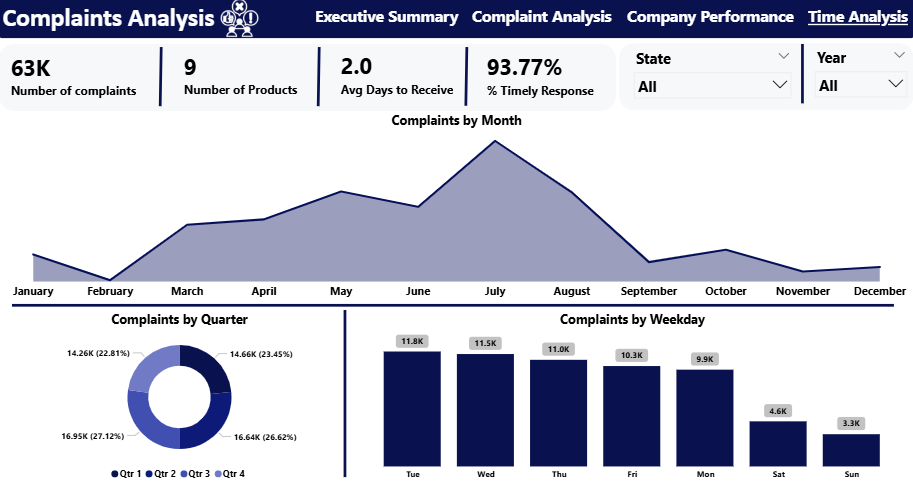

Layout of this report page (visuals, bound fields, positions):
{"tool":"powerbi","page":{"name":"Time Analysis","canvas":[1336,730],"ordinal":4},"visuals":[{"type":"shape","box":[905.4,75.1,430.3,98.2],"z":0},{"type":"shape","box":[0,8.9,1335.9,59.1],"z":1000,"group":"g1"},{"type":"shape","box":[0,75.9,900.8,97.8],"z":1000},{"type":"cardVisual","title":"j","fields":{"Data":["Measuress.Number of complaints"]},"box":[0,75.9,240.9,89.1],"z":2000},{"type":"shape","box":[197.8,80.9,78,86.6],"z":3000},{"type":"cardVisual","fields":{"Data":["Measuress.Number of Products"]},"box":[241.3,70.9,245.8,96.5],"z":4000},{"type":"cardVisual","fields":{"Data":["Measuress.Avg Days to Receive"]},"box":[470.5,67.9,292.5,104.1],"z":5000},{"type":"cardVisual","fields":{"Data":["Measuress.% Timely Response"]},"box":[683.1,68.6,217.1,104.1],"z":6000},{"type":"lineChart","title":"Complaints by Month","fields":{"Category":["Complaints Analysis.Received Date.Variation.Date Hierarchy.Year","Complaints Analysis.Received Date.Variation.Date Hierarchy.Month"],"Y":["CountNonNull(Complaints Analysis.Complaint ID)"]},"box":[0,173.9,1336,283],"z":7000},{"type":"textbox","box":[0,8.8,326.3,59.9],"z":8000,"group":"g1"},{"type":"donutChart","title":"Complaints by Quarter","fields":{"Y":["CountNonNull(Complaints Analysis.Complaint ID)"],"Category":["Complaints Analysis.Received Date.Variation.Date Hierarchy.Quarter"]},"box":[0,464.3,527.1,258.4],"z":8000},{"type":"shape","box":[19.4,449.2,1287.6,15.5],"z":9000},{"type":"shape","box":[427.4,80.9,78,86.6],"z":10000},{"type":"shape","box":[643.9,79.9,76.9,86],"z":11000},{"type":"slicer","fields":{"Values":["Complaints Analysis.Received Date.Variation.Date Hierarchy.Year"]},"box":[1181.2,76.1,154.5,86.6],"z":12000},{"type":"slicer","fields":{"Values":["Complaints Analysis.State name"]},"box":[916.9,77.5,249.8,83.8],"z":13000},{"type":"shape","box":[495.7,464.7,17.4,244],"z":14000},{"type":"shape","box":[1166.8,76.1,13,86.6],"z":15000},{"type":"clusteredColumnChart","title":"Complaints by Weekday","fields":{"Category":["Complaints Analysis.Weekday Name"],"Y":["CountNonNull(Complaints Analysis.Complaint ID)"]},"box":[513.9,464.3,822,258.4],"z":16000},{"type":"group","id":"g1","title":"Group 1","box":[0,8.8,1335.9,59.9],"z":17000},{"type":"image","box":[303.7,8.9,94.9,57.6],"z":17000,"group":"g1"},{"type":"actionButton","box":[685.9,17.3,209.4,40.4],"z":18000},{"type":"actionButton","title":"Time Analysis","box":[1181.2,20.8,154.5,35.6],"z":18000,"group":"g1"},{"type":"actionButton","title":"Company Performance","box":[916.9,20.2,249.8,37.1],"z":19000,"group":"g1"},{"type":"actionButton","box":[459.9,20.4,208.8,39.4],"z":19000},{"type":"actionButton","box":[916.9,17.5,249.7,39.4],"z":20000},{"type":"actionButton","title":"Complaint Analysis","box":[690.2,20.2,209.4,37.1],"z":20000,"group":"g1"},{"type":"actionButton","title":"Executive Summary","box":[462.1,20.2,220.9,37.1],"z":21000,"group":"g1"}]}

Visuals, with their boxes in screenshot pixels (x1, y1, x2, y2), scaled from the page's 1336x730 canvas onto the 913x488 screenshot:
shape: 619 50 912 116
shape: 0 6 912 45
shape: 0 51 616 116
"j" cardVisual: 0 51 165 110
shape: 135 54 188 112
cardVisual - Measuress.Number of Products: 165 47 333 112
cardVisual - Measuress.Avg Days to Receive: 322 45 521 115
cardVisual - Measuress.% Timely Response: 467 46 615 115
"Complaints by Month" lineChart: 0 116 912 305
textbox: 0 6 223 46
"Complaints by Quarter" donutChart: 0 310 360 483
shape: 13 300 893 311
shape: 292 54 345 112
shape: 440 53 493 111
slicer - Complaints Analysis.Received Date.Variation.Date Hierarchy.Year: 807 51 912 109
slicer - Complaints Analysis.State name: 627 52 797 108
shape: 339 311 351 474
shape: 797 51 806 109
"Complaints by Weekday" clusteredColumnChart: 351 310 912 483
"Group 1" group: 0 6 912 46
image: 208 6 272 44
actionButton: 469 12 612 39
"Time Analysis" actionButton: 807 14 912 38
"Company Performance" actionButton: 627 14 797 38
actionButton: 314 14 457 40
actionButton: 627 12 797 38
"Complaint Analysis" actionButton: 472 14 615 38
"Executive Summary" actionButton: 316 14 467 38
